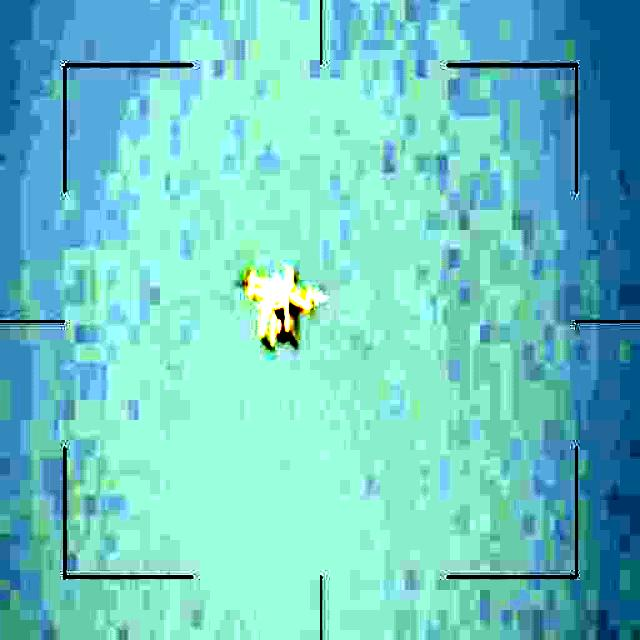bird: (235, 264, 311, 355)
